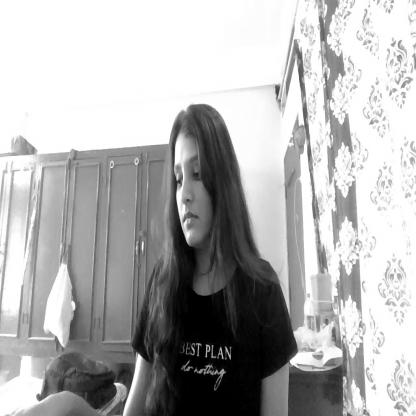Distracted: (167, 107, 228, 256)
